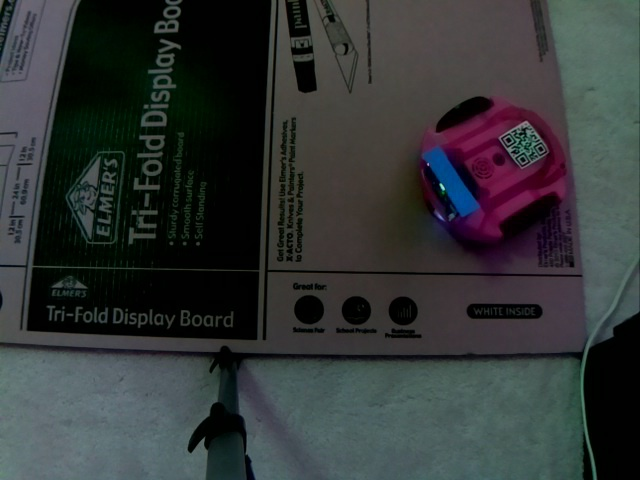chassis: (411, 92, 578, 252)
qr: (496, 121, 553, 166)
